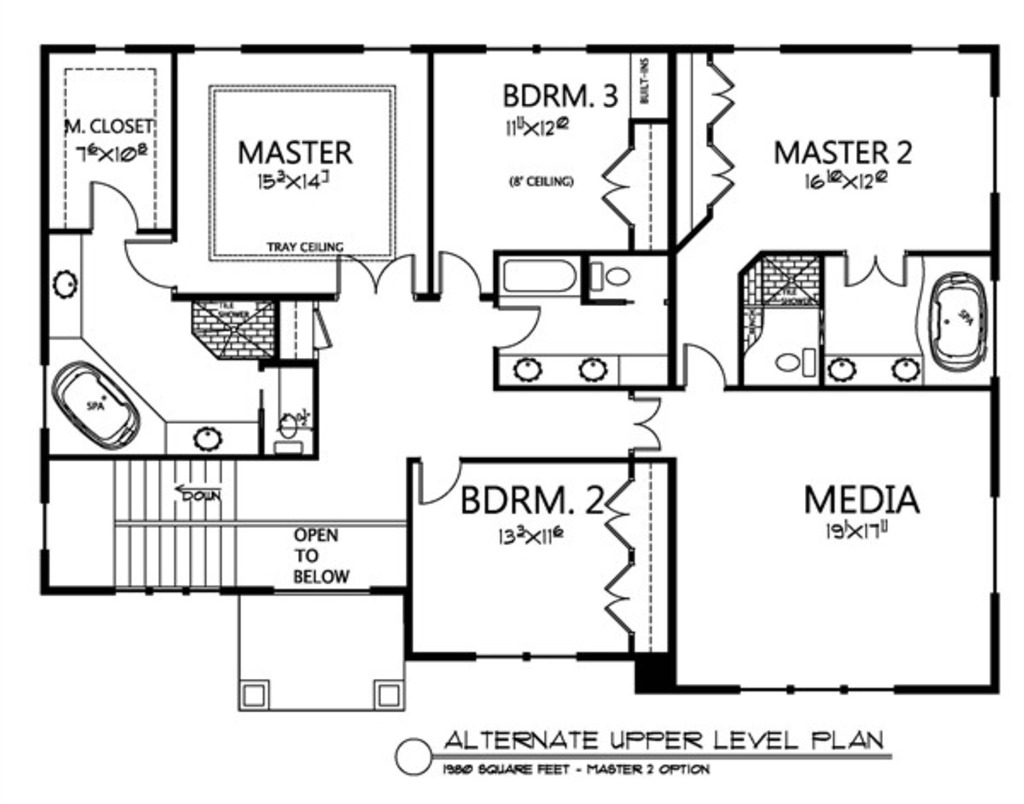door: (590, 138, 645, 233), (83, 176, 151, 240), (598, 555, 653, 633), (334, 252, 426, 297), (840, 242, 919, 291), (670, 328, 734, 388), (619, 383, 666, 458), (124, 240, 185, 291), (703, 141, 746, 212), (409, 455, 468, 506), (700, 58, 738, 136), (434, 247, 485, 305), (498, 296, 546, 353), (604, 478, 639, 556)
large_sink: (588, 247, 635, 295), (770, 350, 819, 382), (273, 415, 308, 455)
small_sink: (500, 348, 626, 392), (40, 240, 95, 333), (170, 415, 256, 452), (819, 353, 928, 382)
stairs: (60, 457, 275, 595)
tub: (51, 336, 163, 445)
window: (980, 93, 1014, 193), (733, 677, 896, 697), (481, 38, 590, 60), (989, 491, 1009, 592), (911, 38, 960, 55), (185, 43, 238, 53)
